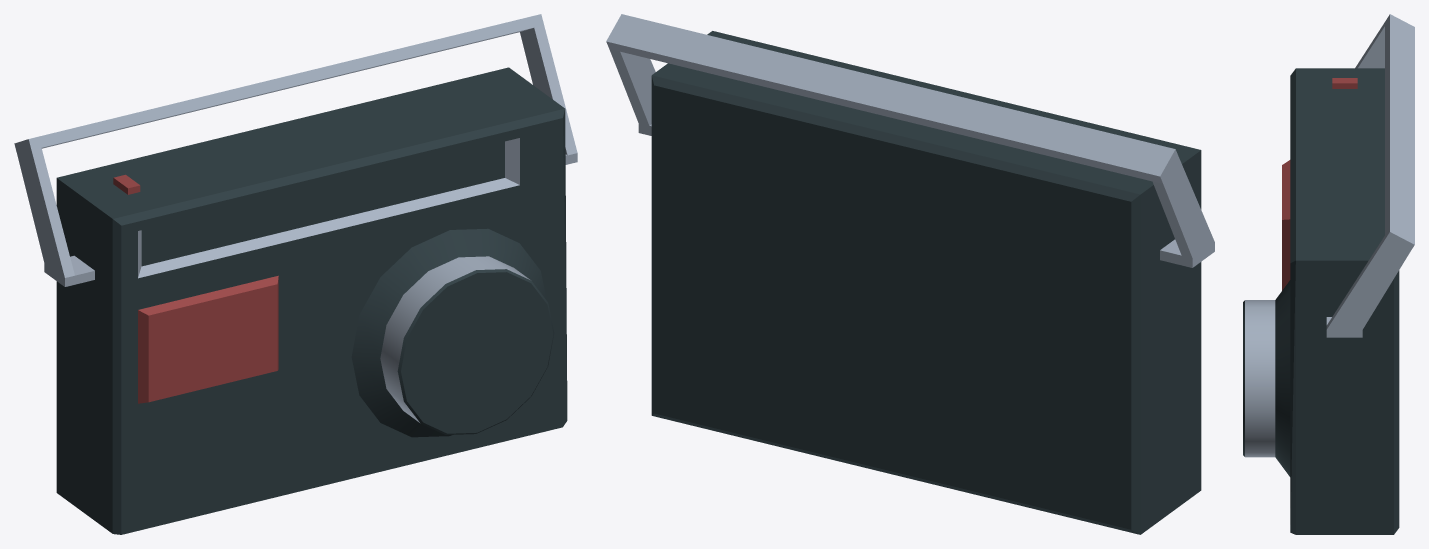
File: Rádio.FBX
3 views of the same model, side by side, from view 1: azimuth 30°, elevation 25°; view 2: azimuth 150°, elevation 25°; view 3: azimuth 270°, elevation 25° (orthographic). The views are drawn at different scales.
Parts seen in each view (by area): view 1: Radio; view 2: Radio; view 3: Radio.
Boxes of the visible parts, <box> form: Radio: <box>14,14,577,534</box>; Radio: <box>606,14,1214,534</box>; Radio: <box>1243,14,1414,534</box>.
Bounding box in the file's own units: 340 × 230 × 113.
